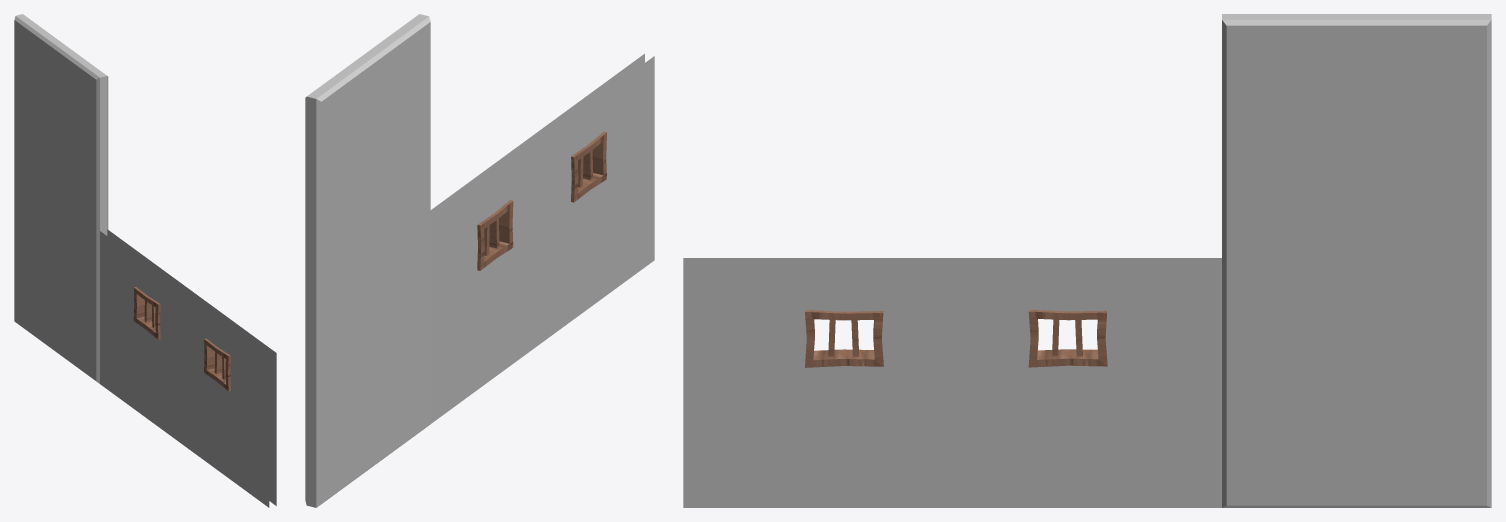
File: SM_wall_01.fbx
3 views of the same model, side by side, from view 1: azimuth 30°, elevation 25°; view 2: azimuth 150°, elevation 25°; view 3: azimuth 270°, elevation 25° (orthographic). The views are drawn at different scales.
Visible parts, largest first — view 1: SM_wall_01_ConvexHulls, SM_wall_01; view 2: SM_wall_01_ConvexHulls, SM_wall_01; view 3: SM_wall_01_ConvexHulls, SM_wall_01.
Boxes of the visible parts, x1=… form: SM_wall_01_ConvexHulls: x1=14, y1=14, x2=108, y2=383; SM_wall_01: x1=100, y1=229, x2=276, y2=507; SM_wall_01_ConvexHulls: x1=305, y1=14, x2=430, y2=507; SM_wall_01: x1=430, y1=53, x2=654, y2=423; SM_wall_01_ConvexHulls: x1=1222, y1=14, x2=1491, y2=507; SM_wall_01: x1=683, y1=258, x2=1221, y2=507.
Size of the model in its own units: 33.45 by 1200 by 800.
